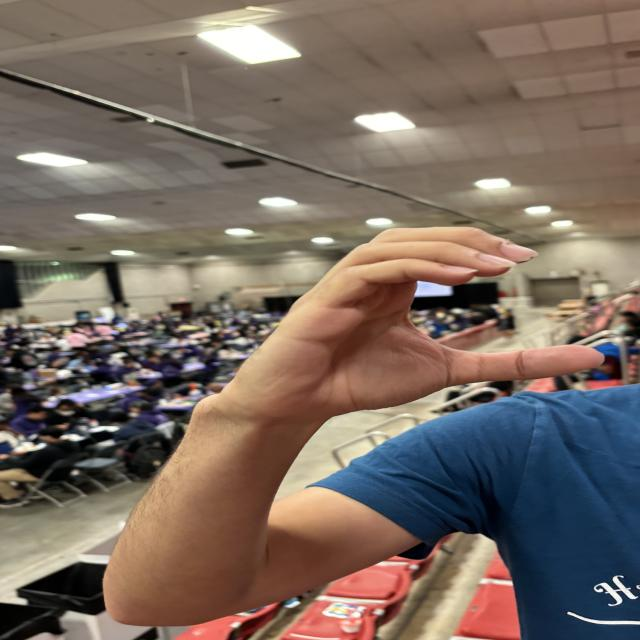C: (215, 213, 607, 408)
